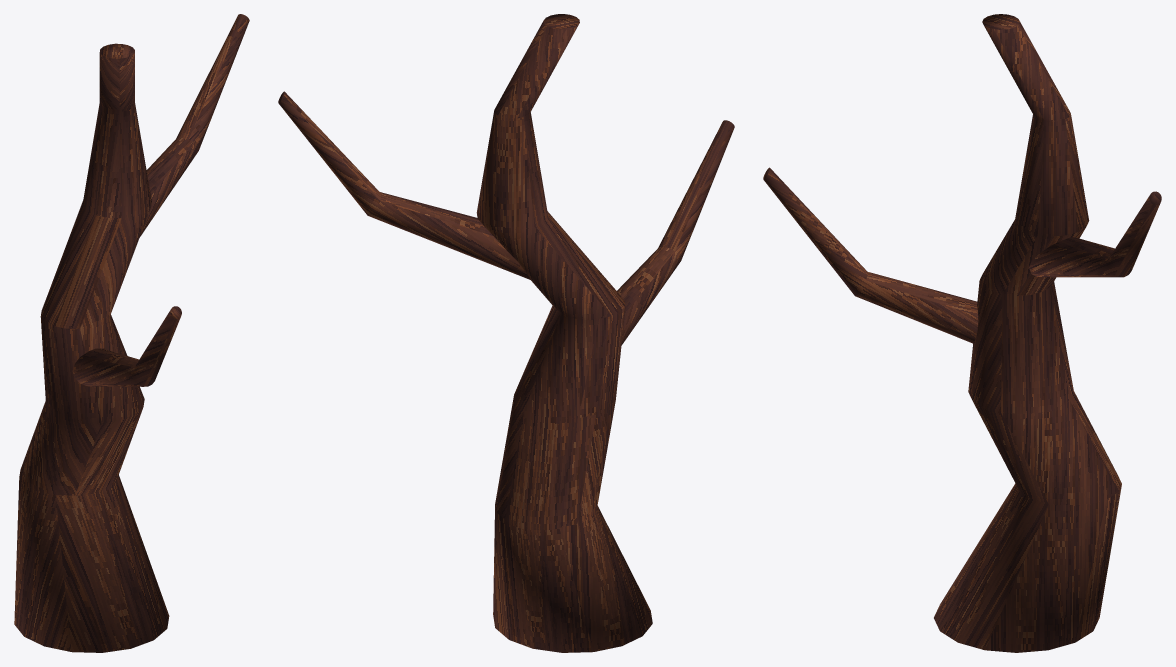
Rendered from dead_tree_2.glb.
3 renders of one model, left to right at view 1: azimuth 30°, elevation 25°; view 2: azimuth 150°, elevation 25°; view 3: azimuth 270°, elevation 25°, orthographic. The views are drawn at different scales.
Parts seen in each view (by area): view 1: Cylinder; view 2: Cylinder; view 3: Cylinder.
Part boxes in pixels (x1=…): Cylinder: x1=14, y1=14, x2=249, y2=652; Cylinder: x1=278, y1=14, x2=734, y2=652; Cylinder: x1=763, y1=14, x2=1161, y2=652.
Bounding box in the file's own units: 4.27 × 8.05 × 4.8.
1 material, 1 textured.
